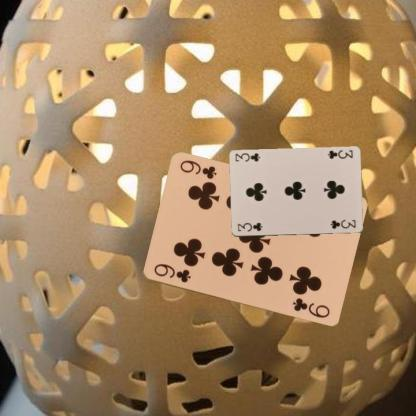3c: (234, 220, 264, 233), (324, 148, 354, 160)
9c: (151, 261, 192, 284)
